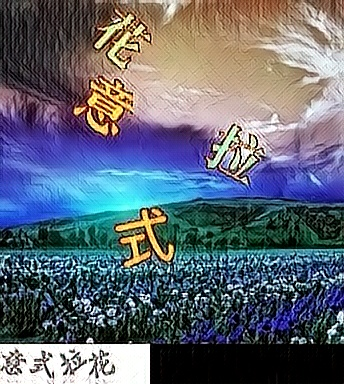BBA8: (89, 7, 154, 71)
C0AD: (200, 121, 265, 185)
CABD: (110, 203, 175, 267)
D2E2: (73, 75, 138, 139)
